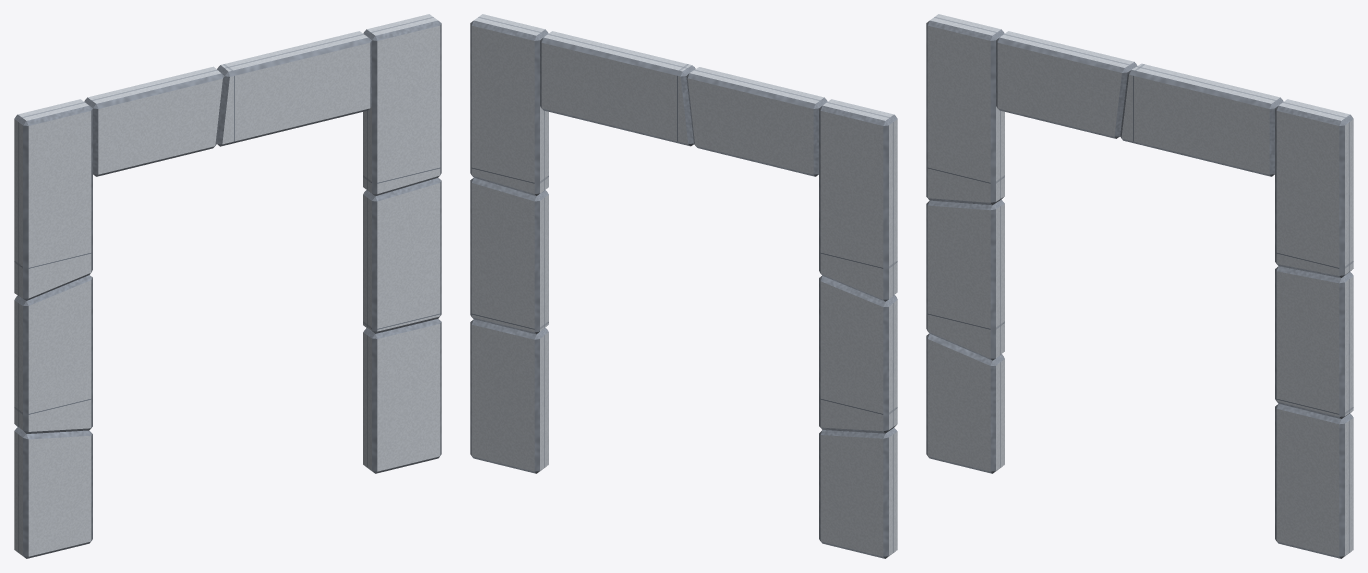
Rendered from Kit_Steel_WallDoor_Fractured.fbx.
The picture shows the model from 3 angles, left to right: view 1: azimuth 30°, elevation 25°; view 2: azimuth 150°, elevation 25°; view 3: azimuth 330°, elevation 25°; orthographic projection.
Visible parts, largest first — view 1: Kit_Steel_WallDoor_frag_03, Kit_Steel_WallDoor_frag_06, Kit_Steel_WallDoor_frag_08, Kit_Steel_WallDoor_frag_02, Kit_Steel_WallDoor_frag_04, Kit_Steel_WallDoor_frag_05, Kit_Steel_WallDoor_frag_07, Kit_Steel_WallDoor_frag_01; view 2: Kit_Steel_WallDoor_frag_03, Kit_Steel_WallDoor_frag_06, Kit_Steel_WallDoor_frag_08, Kit_Steel_WallDoor_frag_02, Kit_Steel_WallDoor_frag_05, Kit_Steel_WallDoor_frag_04, Kit_Steel_WallDoor_frag_07, Kit_Steel_WallDoor_frag_01; view 3: Kit_Steel_WallDoor_frag_03, Kit_Steel_WallDoor_frag_06, Kit_Steel_WallDoor_frag_08, Kit_Steel_WallDoor_frag_02, Kit_Steel_WallDoor_frag_04, Kit_Steel_WallDoor_frag_05, Kit_Steel_WallDoor_frag_07, Kit_Steel_WallDoor_frag_01.
Boxes of the visible parts, left/top/right/bottom form: Kit_Steel_WallDoor_frag_03: left=14, top=99, right=92, bottom=300; Kit_Steel_WallDoor_frag_06: left=363, top=14, right=441, bottom=196; Kit_Steel_WallDoor_frag_08: left=217, top=31, right=371, bottom=146; Kit_Steel_WallDoor_frag_02: left=14, top=275, right=92, bottom=433; Kit_Steel_WallDoor_frag_04: left=363, top=319, right=441, bottom=473; Kit_Steel_WallDoor_frag_05: left=363, top=178, right=441, bottom=333; Kit_Steel_WallDoor_frag_07: left=84, top=66, right=224, bottom=176; Kit_Steel_WallDoor_frag_01: left=14, top=427, right=92, bottom=558; Kit_Steel_WallDoor_frag_03: left=819, top=99, right=897, bottom=301; Kit_Steel_WallDoor_frag_06: left=470, top=14, right=548, bottom=195; Kit_Steel_WallDoor_frag_08: left=540, top=31, right=695, bottom=146; Kit_Steel_WallDoor_frag_02: left=819, top=275, right=897, bottom=433; Kit_Steel_WallDoor_frag_05: left=470, top=178, right=548, bottom=334; Kit_Steel_WallDoor_frag_04: left=470, top=319, right=548, bottom=473; Kit_Steel_WallDoor_frag_07: left=686, top=67, right=827, bottom=176; Kit_Steel_WallDoor_frag_01: left=819, top=428, right=897, bottom=558; Kit_Steel_WallDoor_frag_03: left=926, top=14, right=1004, bottom=205; Kit_Steel_WallDoor_frag_06: left=1275, top=99, right=1353, bottom=277; Kit_Steel_WallDoor_frag_08: left=1120, top=63, right=1283, bottom=176; Kit_Steel_WallDoor_frag_02: left=926, top=199, right=1004, bottom=360; Kit_Steel_WallDoor_frag_04: left=1275, top=403, right=1353, bottom=558; Kit_Steel_WallDoor_frag_05: left=1275, top=266, right=1353, bottom=419; Kit_Steel_WallDoor_frag_07: left=996, top=31, right=1137, bottom=138; Kit_Steel_WallDoor_frag_01: left=926, top=333, right=1004, bottom=473.
Size of what is drawn, in the model's own units: 3 by 3 by 0.16.
Materials: 2 (2 with a texture image).
